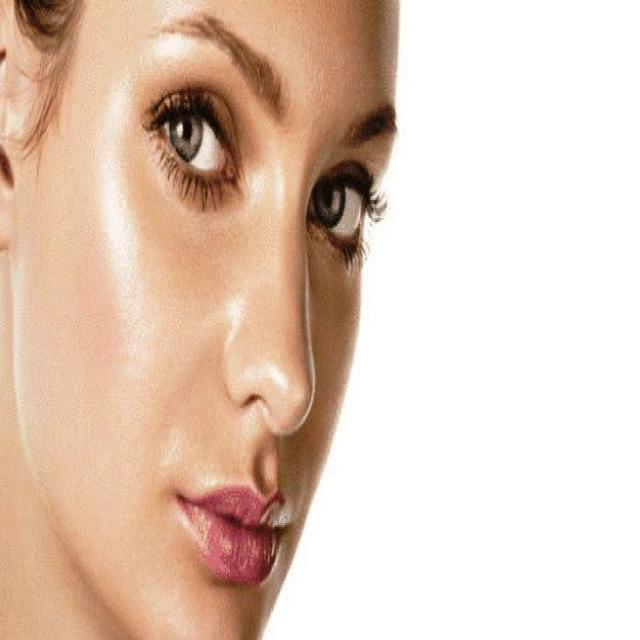Oily-Skin: (94, 77, 145, 351), (244, 150, 302, 218), (246, 354, 308, 413), (200, 288, 244, 355)
